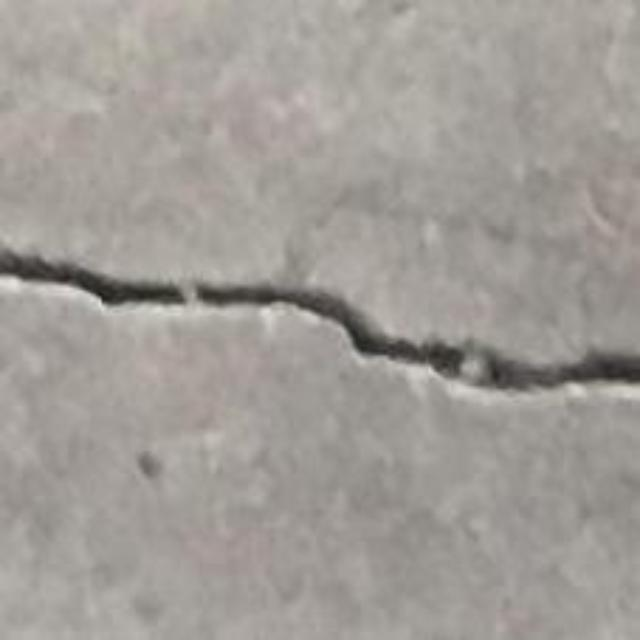crack: (0, 249, 639, 391)
